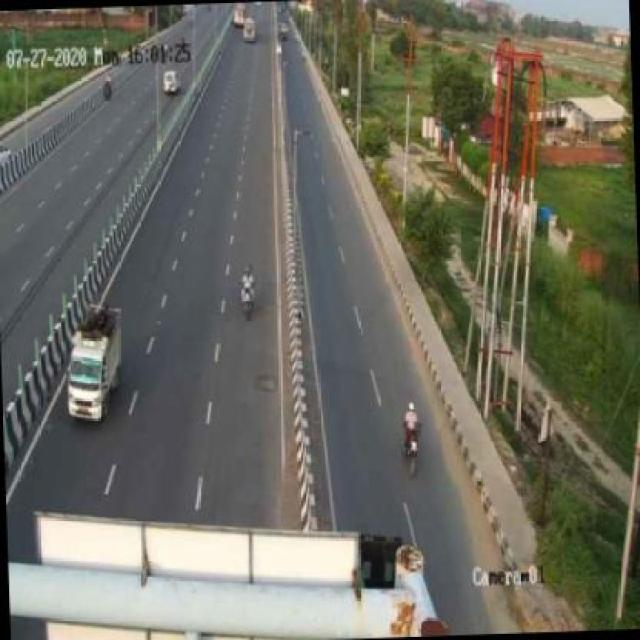car: (63, 302, 131, 429)
